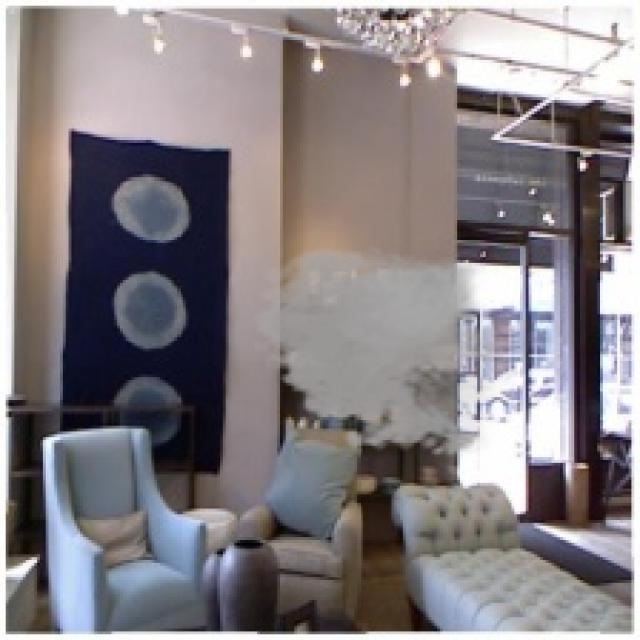smoke: (246, 240, 523, 463)
